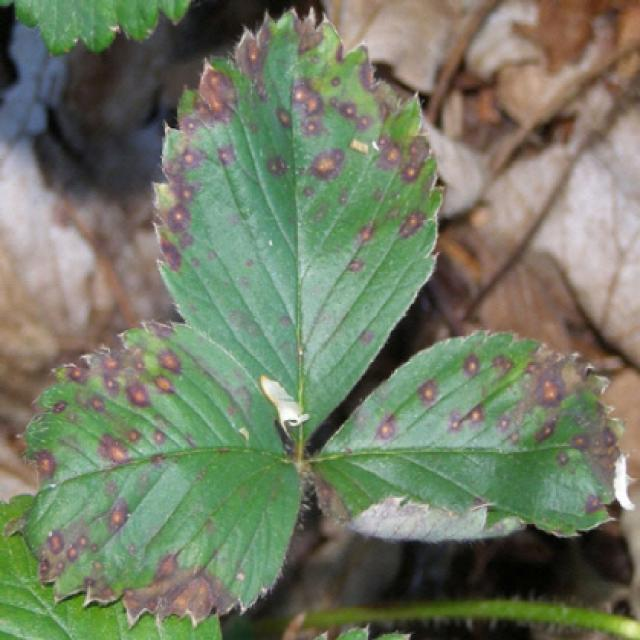Leaf Spot: (150, 5, 444, 451), (0, 319, 303, 630), (306, 328, 627, 543)
